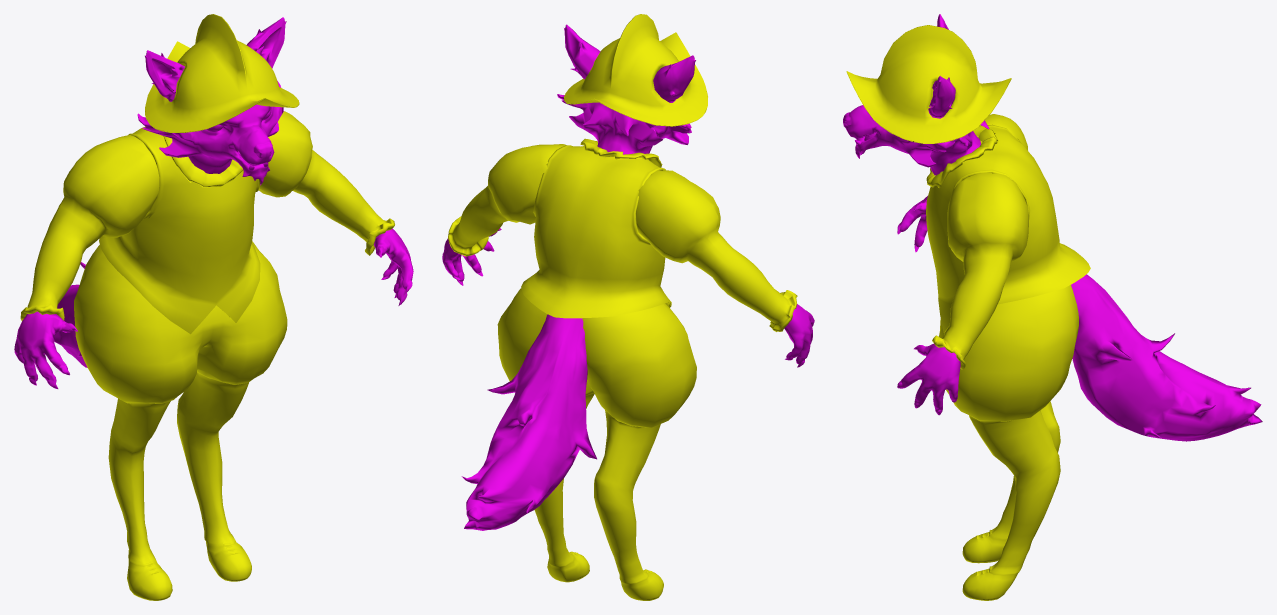
File: SM_Wolf.fbx
The picture shows the model from 3 angles, left to right: view 1: azimuth 30°, elevation 25°; view 2: azimuth 150°, elevation 25°; view 3: azimuth 270°, elevation 25°; orthographic projection. The views are drawn at different scales.
Parts seen in each view (by area): view 1: Wolf; view 2: Wolf; view 3: Wolf.
Part boxes in pixels (x1=…): Wolf: x1=14, y1=14, x2=413, y2=600; Wolf: x1=442, y1=14, x2=814, y2=600; Wolf: x1=843, y1=14, x2=1262, y2=600.
Bounding box in the file's own units: 126 × 183 × 126.
